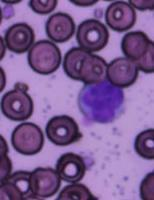M: (77, 78, 126, 125)
